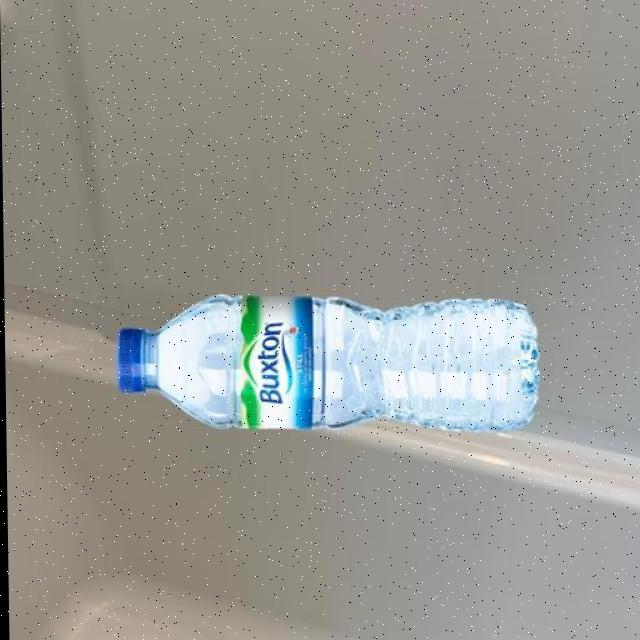bottle: (113, 292, 540, 432)
